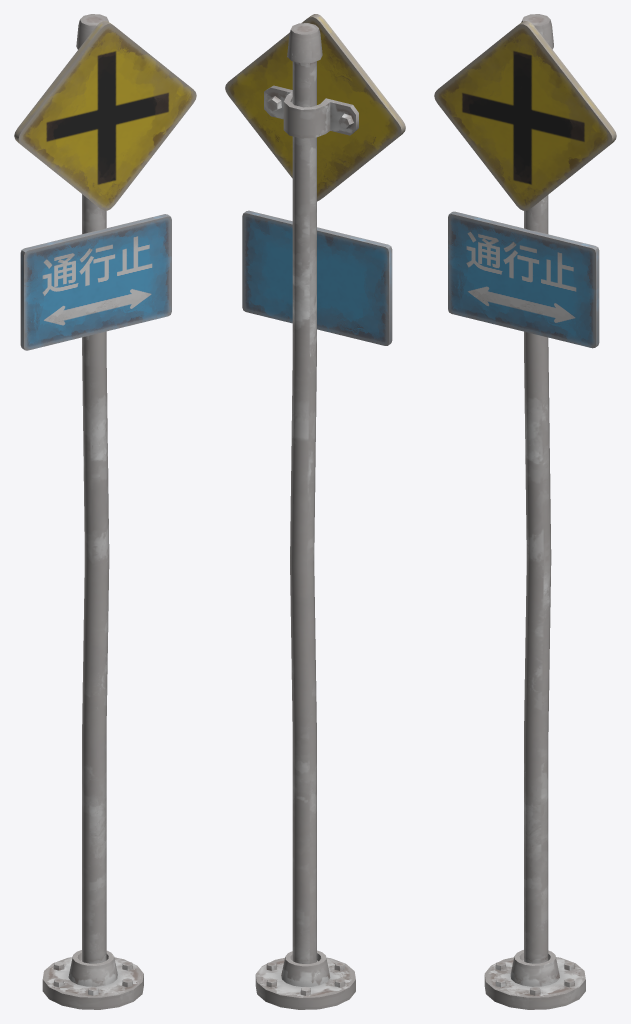
File: SM_roadsign_03.fbx
3 renders of one model, left to right at view 1: azimuth 30°, elevation 25°; view 2: azimuth 150°, elevation 25°; view 3: azimuth 330°, elevation 25°, orthographic.
Visible parts, largest first — view 1: Object32301; view 2: Object32301; view 3: Object32301.
Part boxes in pixels (box(x1,y1,x2,y2)): Object32301: box(14, 14, 196, 1009); Object32301: box(225, 14, 405, 1009); Object32301: box(434, 14, 616, 1009).
Bounding box in the file's own units: 22.96 × 120 × 11.39.
